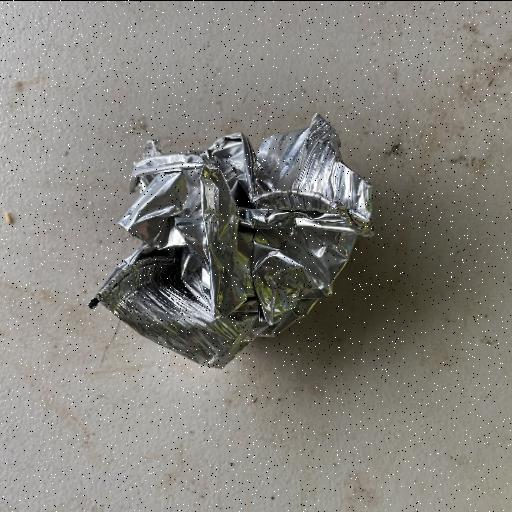Metal: (86, 110, 377, 370)
